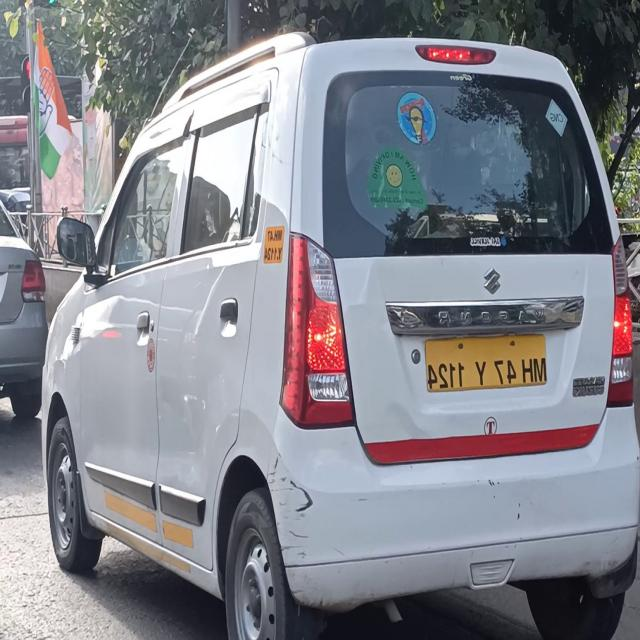license_plate: (420, 329, 551, 402)
